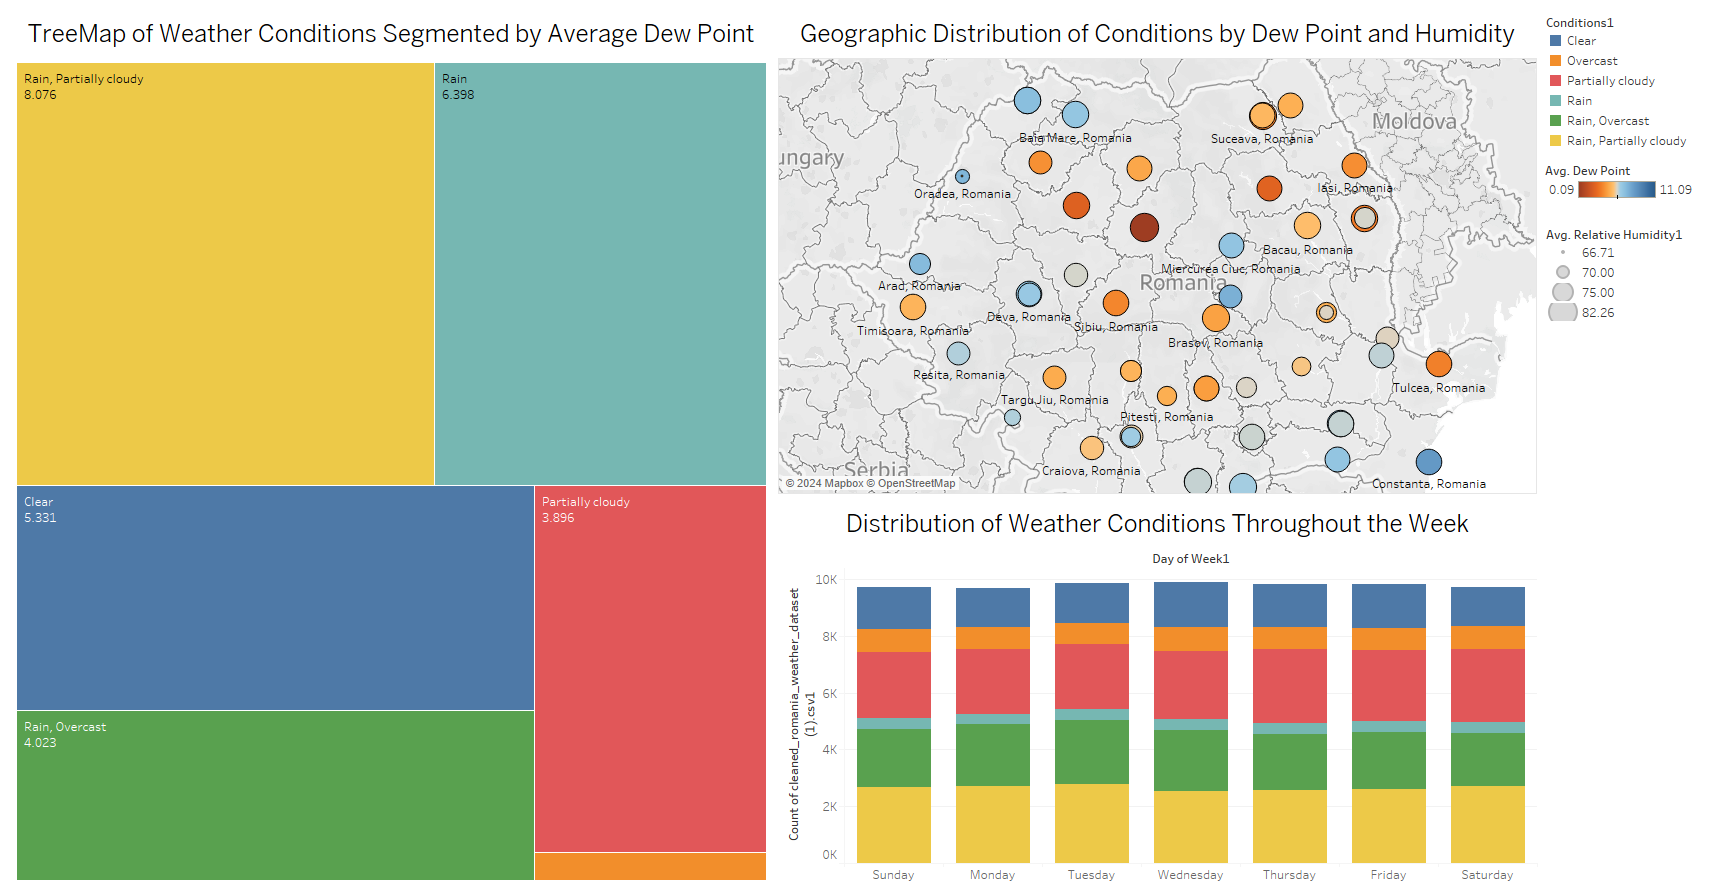

Layout of this report page (visuals, bound fields, positions):
{"tool":"tableau","page":{"name":"Hypothesis-4","canvas":[1000,1000],"units":"permille","ordinal":3},"visuals":[{"type":"worksheet","title":"H4-V1","mark":"Automatic","box":[4.7,8.9,448.5,982.1]},{"type":"worksheet","title":"H4-V2","mark":"Circle","rows":["Latitude"],"cols":["Longitude"],"box":[453.2,8.9,448.5,546.9]},{"type":"legend","title":"H4-V1","param":"[federated.0d7zv000usn33s12f0i2h1qllquo].[none:Conditions:nk]","box":[901.7,8.9,93.6,163]},{"type":"legend","title":"H4-V2","param":"[federated.0d7zv000usn33s12f0i2h1qllquo].[avg:Dew Point:qk]","box":[901.7,171.9,93.6,72.5]},{"type":"legend","title":"H4-V2","param":"[federated.0d7zv000usn33s12f0i2h1qllquo].[avg:Relative Humidity:qk]","box":[901.7,244.4,93.6,118.3]},{"type":"worksheet","title":"H4-V3","mark":"Automatic","rows":["cleaned_romania_weather_dataset (1).csv_E6A164B0D4CE45A88944"],"cols":["Day of Week"],"box":[453.2,555.8,448.5,435.3]}]}

Visuals, with their boxes on the dashboard's canvas, which has no fixed pixel size, in thousandths of its width and height (x1, y1, x2, y2). These are canvas units, not pixel positions in the 1709x896 screenshot, which may show the page scaled, cropped or inside an application window:
"H4-V1" worksheet: {"x1": 5, "y1": 9, "x2": 453, "y2": 991}
"H4-V2" worksheet (Circle marks): {"x1": 453, "y1": 9, "x2": 902, "y2": 556}
"H4-V1" legend: {"x1": 902, "y1": 9, "x2": 995, "y2": 172}
"H4-V2" legend: {"x1": 902, "y1": 172, "x2": 995, "y2": 244}
"H4-V2" legend: {"x1": 902, "y1": 244, "x2": 995, "y2": 363}
"H4-V3" worksheet: {"x1": 453, "y1": 556, "x2": 902, "y2": 991}
